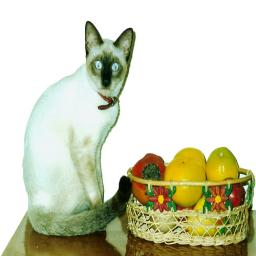catnose: (101, 77, 111, 89)
